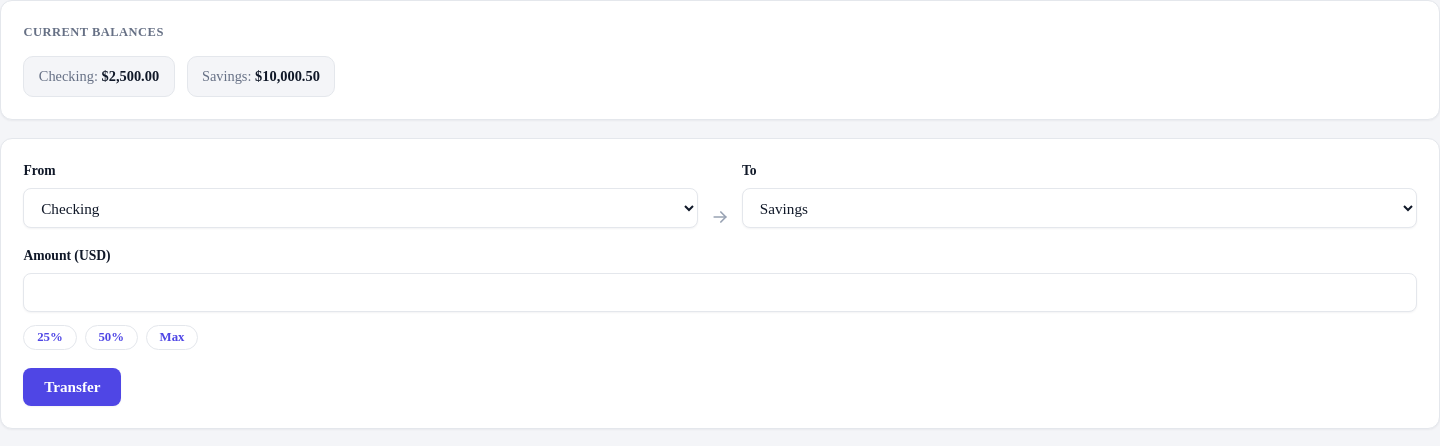
Test: TransferForm quick amounts › computes percentages with cent precision
What coordinates should you click on to do the following:
click the button "25%"
I would click on:
 (50, 338)
Its box is [23,325,77,350].
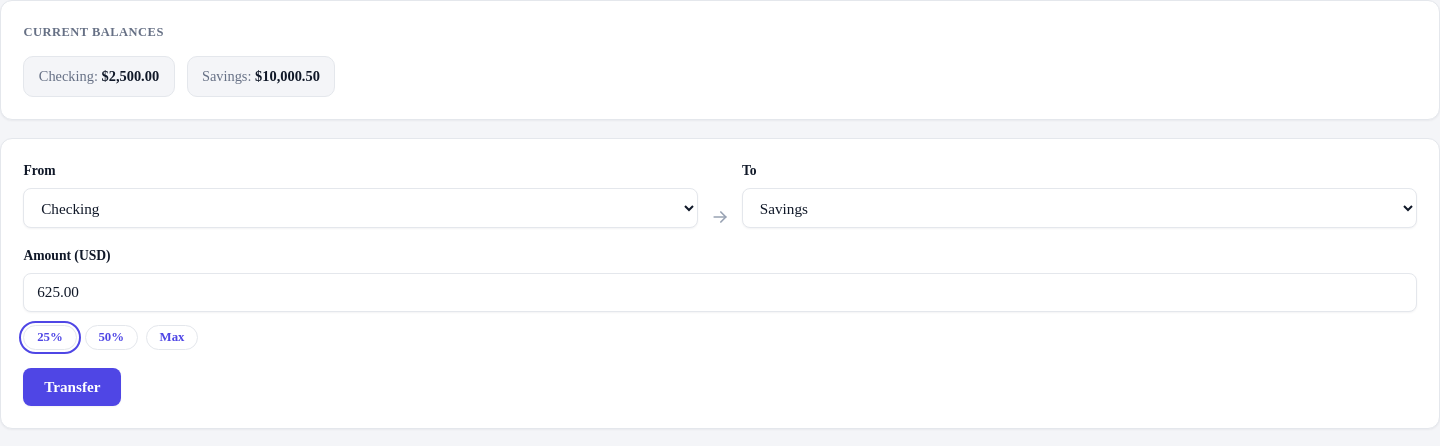
Check: the number field labelled "Amount (USD)" holds "625", box [23,273,1417,312]
What coordinates should you click on to do the following:
click the button "50%"
I would click on:
 (111, 338)
Its box is [85,325,138,350].
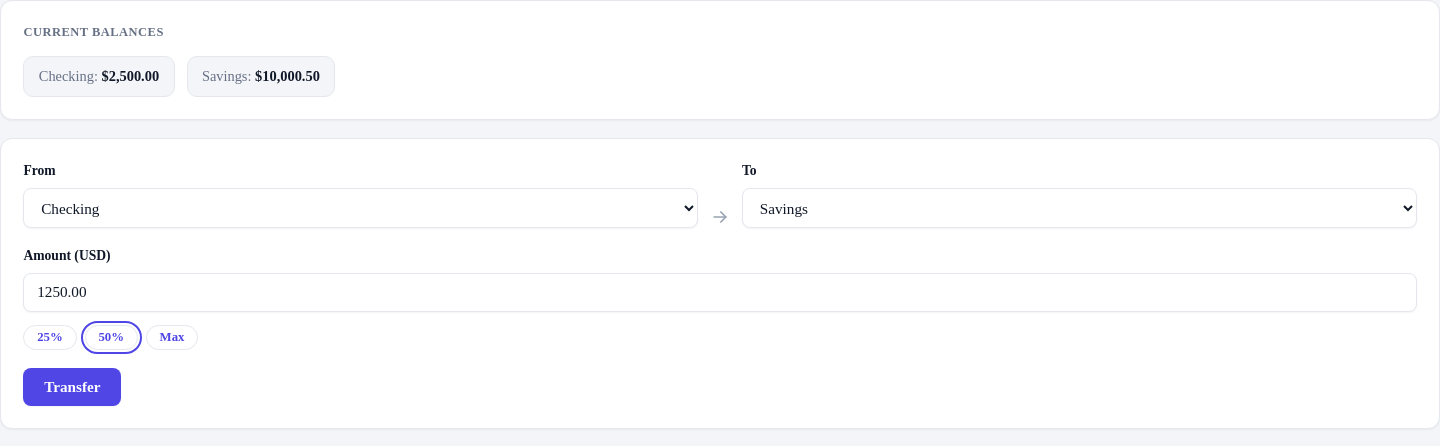
Check: the number field labelled "Amount (USD)" holds "1250", box [23,273,1417,312]
